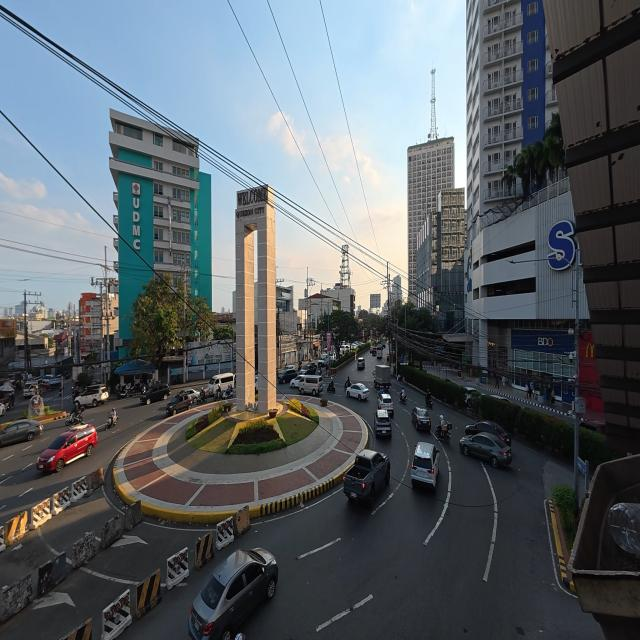bus: (377, 345, 382, 359)
car: (189, 548, 278, 639), (37, 425, 97, 471), (460, 432, 512, 467), (411, 442, 439, 489), (465, 421, 511, 446), (0, 420, 42, 446), (74, 385, 109, 407), (140, 383, 170, 405), (166, 392, 192, 415), (374, 409, 392, 438), (412, 407, 431, 431), (346, 383, 369, 400), (378, 392, 393, 417), (580, 420, 605, 434), (278, 366, 297, 383), (465, 387, 481, 405), (42, 375, 61, 387), (181, 389, 199, 401), (290, 374, 304, 388), (490, 394, 511, 403), (305, 362, 317, 374), (318, 355, 328, 366), (357, 357, 365, 369), (299, 365, 308, 374), (0, 402, 6, 415), (255, 374, 259, 393), (370, 345, 376, 354)
motorcycle: (435, 423, 451, 443), (65, 413, 83, 426), (106, 414, 117, 430), (196, 388, 206, 403), (118, 385, 129, 398), (213, 388, 222, 400), (425, 397, 433, 409), (328, 383, 336, 393), (225, 389, 233, 399), (400, 394, 407, 403)
trucks: (344, 450, 390, 503), (374, 365, 391, 390)
vans: (208, 373, 235, 392), (299, 375, 323, 395), (23, 382, 37, 397)
